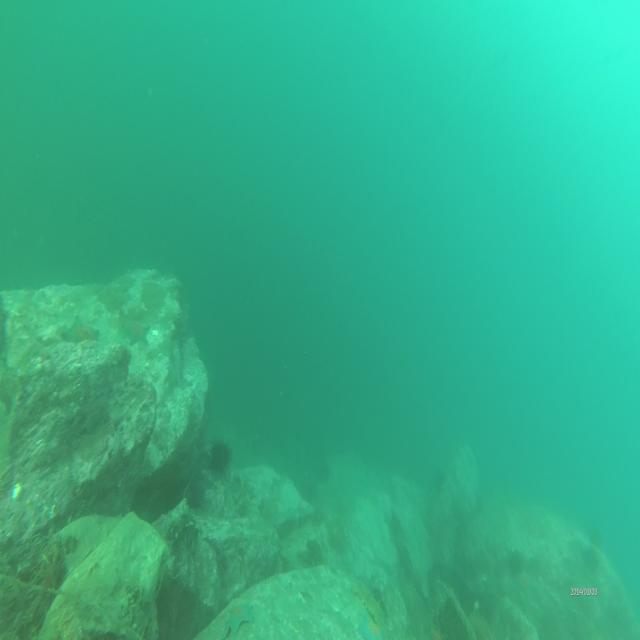echinus: (208, 439, 231, 479), (507, 548, 527, 580)
holothurian: (352, 574, 386, 626)
starfish: (61, 311, 100, 354), (219, 600, 253, 634), (356, 617, 386, 640)
